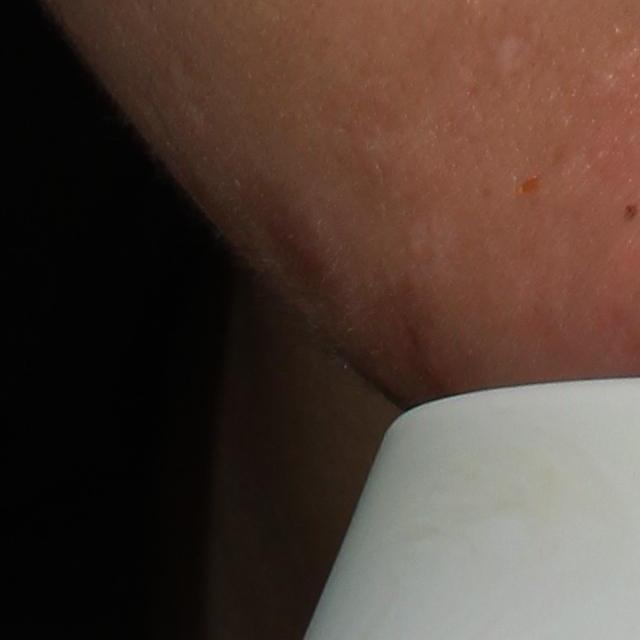nevus: (622, 205, 638, 223)
